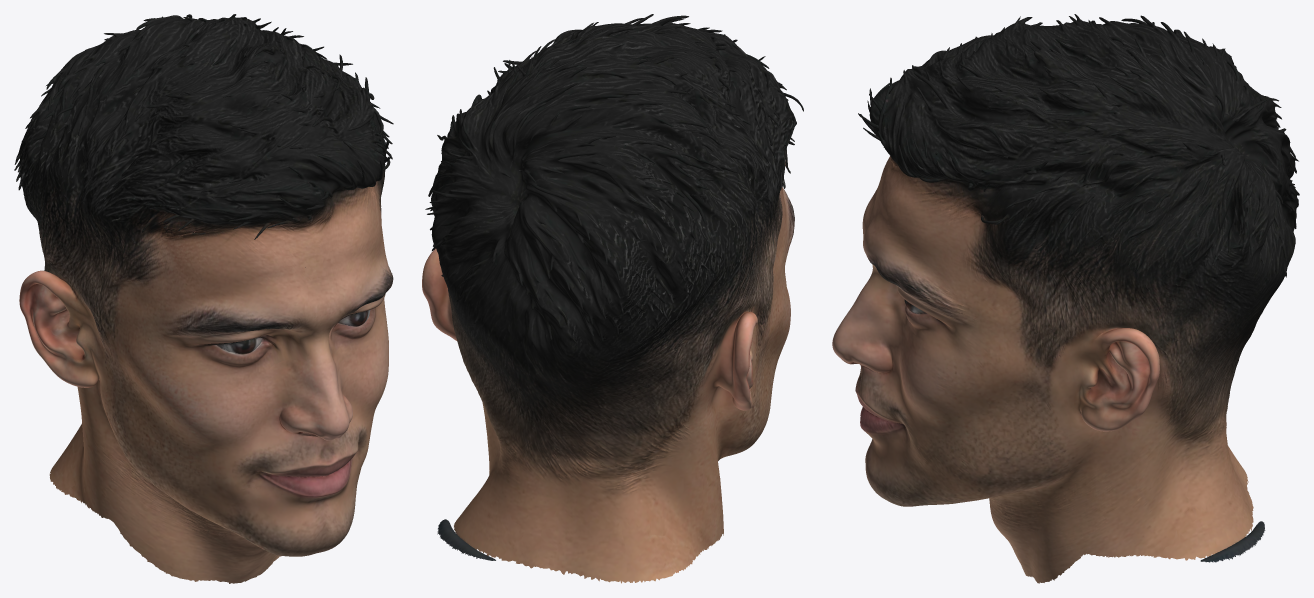
Rendered from skin_m.glb.
3 views of the same model, side by side, from view 1: azimuth 30°, elevation 25°; view 2: azimuth 150°, elevation 25°; view 3: azimuth 270°, elevation 25° (orthographic). The views are drawn at different scales.
Visible parts, largest first — view 1: Skin; view 2: Skin; view 3: Skin.
Part boxes in pixels (x1,y1,x2,y2): Skin: (14, 14, 393, 583); Skin: (422, 14, 803, 583); Skin: (832, 14, 1299, 583).
Bounding box in the file's own units: 0.1798 × 0.2756 × 0.2176.
1 material, 1 textured.
